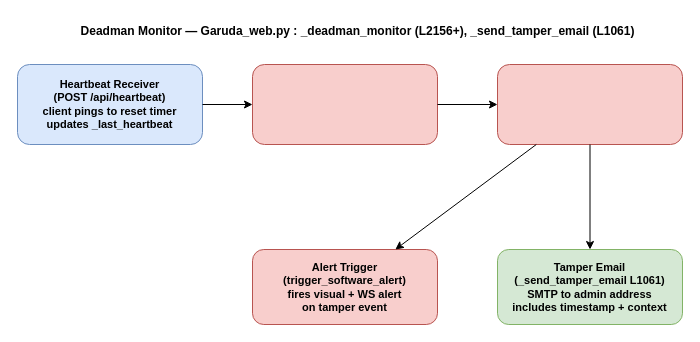
This 700x342 diagram has some shape labels left out. The box of each missing label's shape, as (x1, y1, x2, y2) in pixels:
Deadman Thread (_deadman_monitor) daemon, checks every 10s 180s timeout window: (252, 64, 438, 144)
Timeout Evaluator (now − _last_heartbeat > 180s → tamper event): (496, 64, 682, 144)
